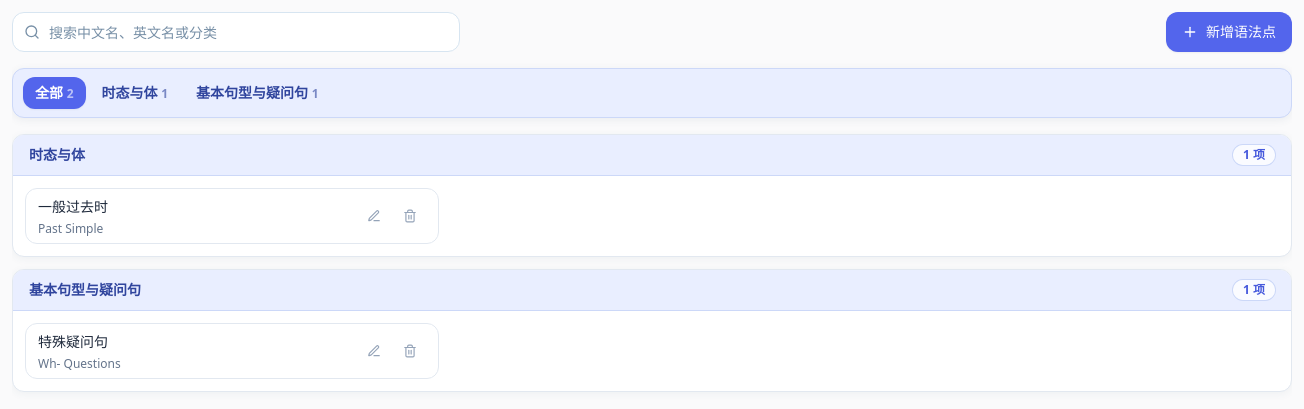
Test case: PresetLibrary › searches grammar presets by Chinese and English labels
The image size is (1304, 409).
Expected: the heading "一般过去时" is shown, x1=38 y1=197 x2=108 y2=216
Expected: the text "Past Simple" is shown, x1=38 y1=220 x2=103 y2=237
Type "Wh-" into the search field named "搜索语法库". click: (236, 32)
box: x1=12 y1=12 x2=460 y2=52
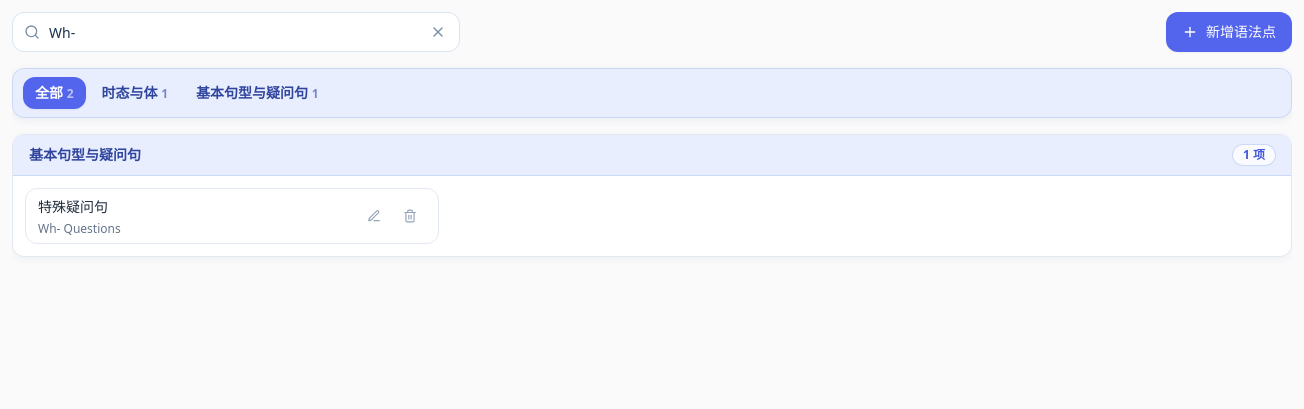
Expected: the heading "特殊疑问句" is shown, x1=38 y1=197 x2=108 y2=216
Result: the heading "一般过去时" is gone
